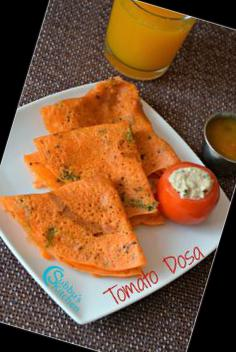dosa: (3, 176, 148, 279), (42, 75, 179, 171), (28, 120, 159, 217)
